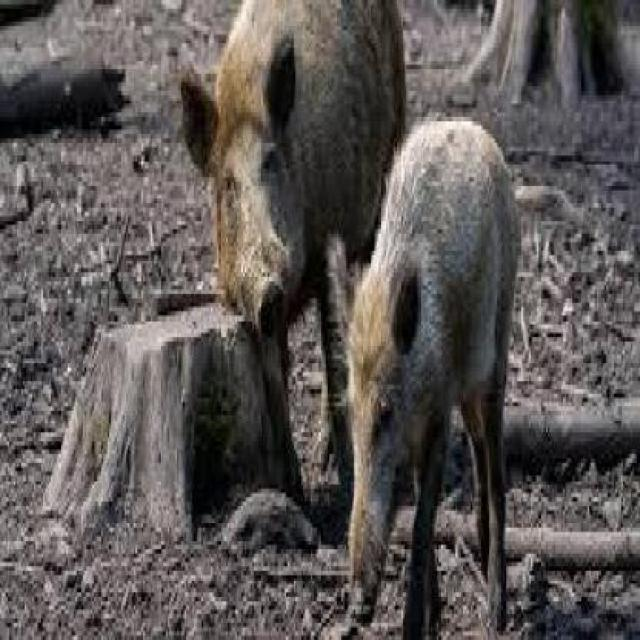wildboar: (177, 0, 412, 509), (325, 111, 526, 640)
